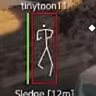hacks_3: (15, 2, 74, 96)
